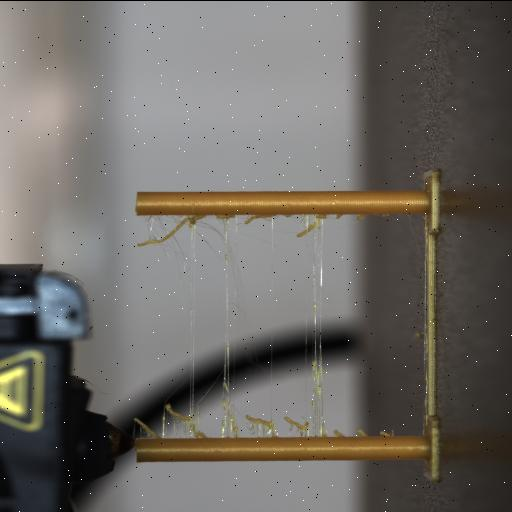stringing: (138, 226, 194, 273), (187, 219, 233, 271), (244, 414, 274, 436), (132, 416, 160, 438), (164, 403, 194, 423), (295, 215, 321, 237), (274, 212, 310, 226), (284, 416, 309, 436), (244, 348, 266, 370), (244, 214, 270, 224), (228, 300, 244, 316), (332, 428, 346, 436), (356, 428, 368, 436), (356, 213, 368, 220), (380, 430, 392, 436)
